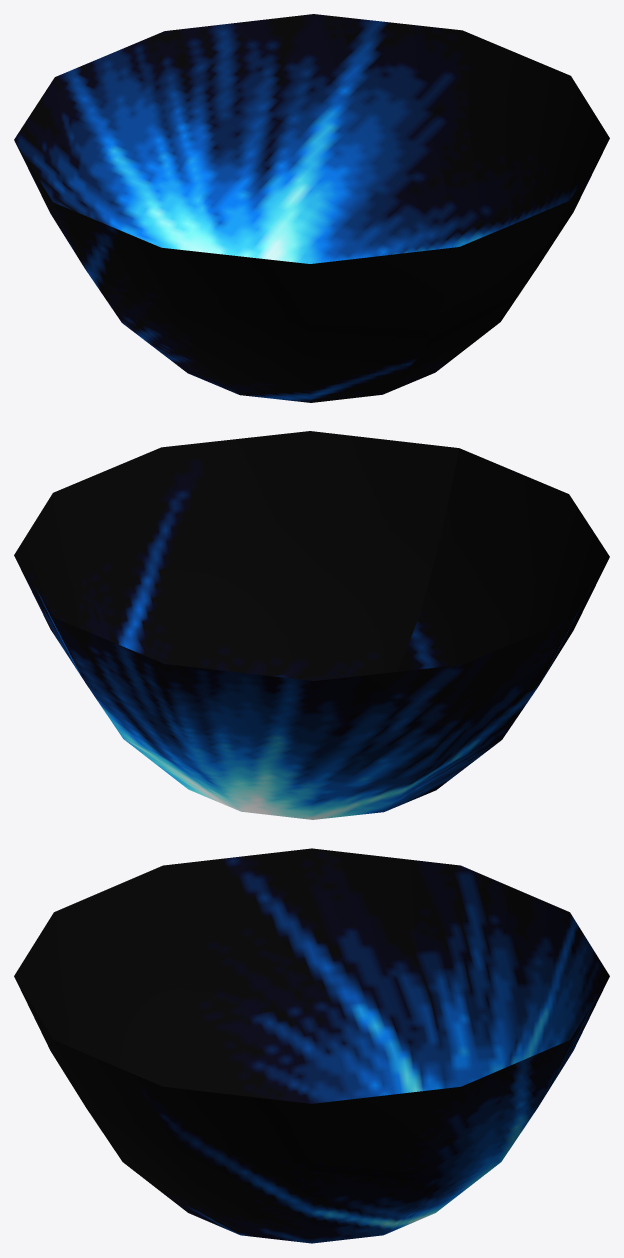
Rendered from effect_RingBendPlane02.FBX.
3 renders of one model, top to bottom at view 1: azimuth 30°, elevation 25°; view 2: azimuth 150°, elevation 25°; view 3: azimuth 270°, elevation 25°, orthographic.
Parts seen in each view (by area): view 1: effect_RingBendPlane02; view 2: effect_RingBendPlane02; view 3: effect_RingBendPlane02.
Part boxes in pixels (bbox=[...]): effect_RingBendPlane02: bbox=[14, 14, 609, 402]; effect_RingBendPlane02: bbox=[14, 431, 609, 819]; effect_RingBendPlane02: bbox=[14, 848, 609, 1243].
Bounding box in the file's own units: 55.3 × 20.8 × 54.52.
